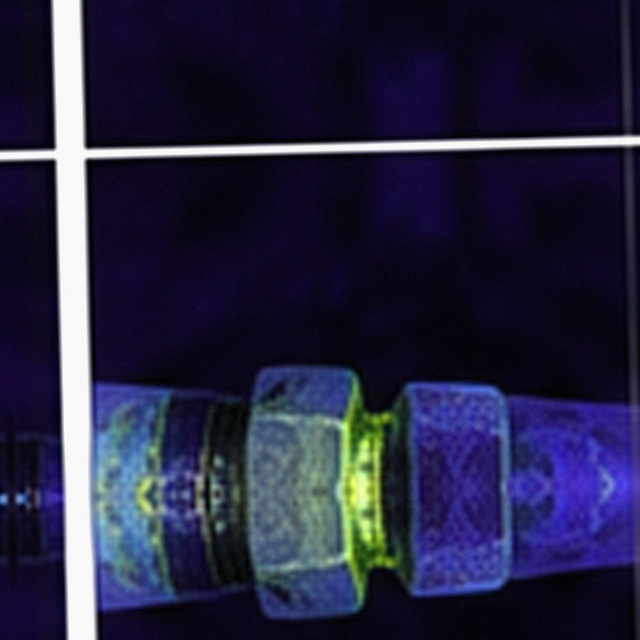hydraulic_oil_leak: (331, 374, 401, 599), (131, 474, 154, 516), (110, 420, 129, 457), (146, 531, 166, 562), (153, 407, 164, 443), (98, 455, 108, 482), (144, 445, 151, 458), (266, 566, 275, 576), (297, 421, 307, 430), (264, 407, 273, 417), (141, 517, 149, 525), (258, 574, 264, 582), (141, 467, 147, 473), (279, 409, 286, 414), (255, 404, 260, 409), (285, 571, 289, 574), (309, 563, 312, 565), (104, 517, 107, 519), (276, 401, 279, 403)
